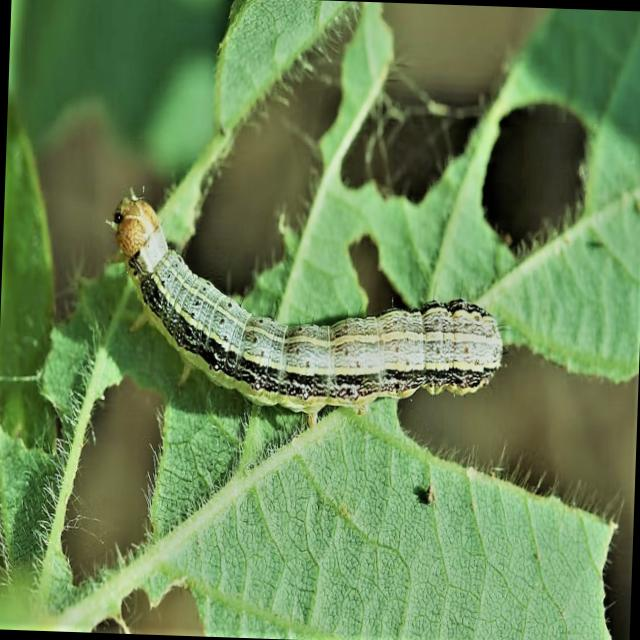Armyworm: (77, 148, 511, 451)
Armyworm_damage: (449, 50, 612, 300), (49, 333, 172, 593), (325, 217, 421, 315)
